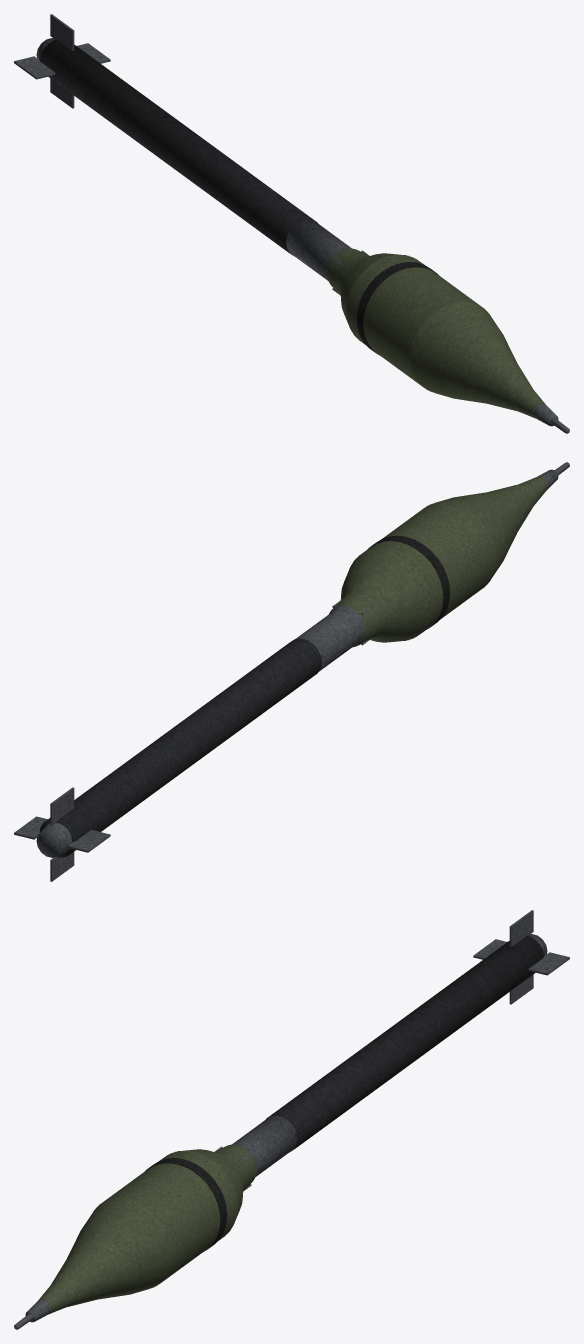
The picture shows the model from 3 angles, top to bottom: view 1: azimuth 30°, elevation 25°; view 2: azimuth 150°, elevation 25°; view 3: azimuth 330°, elevation 25°; orthographic projection.
Parts seen in each view (by area): view 1: pg7v; view 2: pg7v; view 3: pg7v.
Part boxes in pixels (<box>): pg7v: <box>14,14,569,433</box>; pg7v: <box>14,462,569,881</box>; pg7v: <box>14,910,569,1329</box>.
Size of the model in its own units: 0.094 by 0.094 by 0.97.
Materials: 4 (4 with a texture image).
